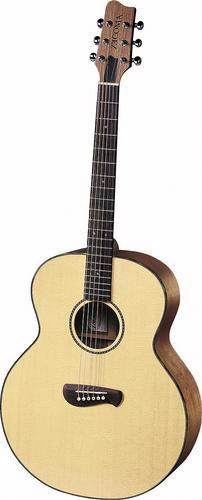guitar: (1, 1, 202, 500)
